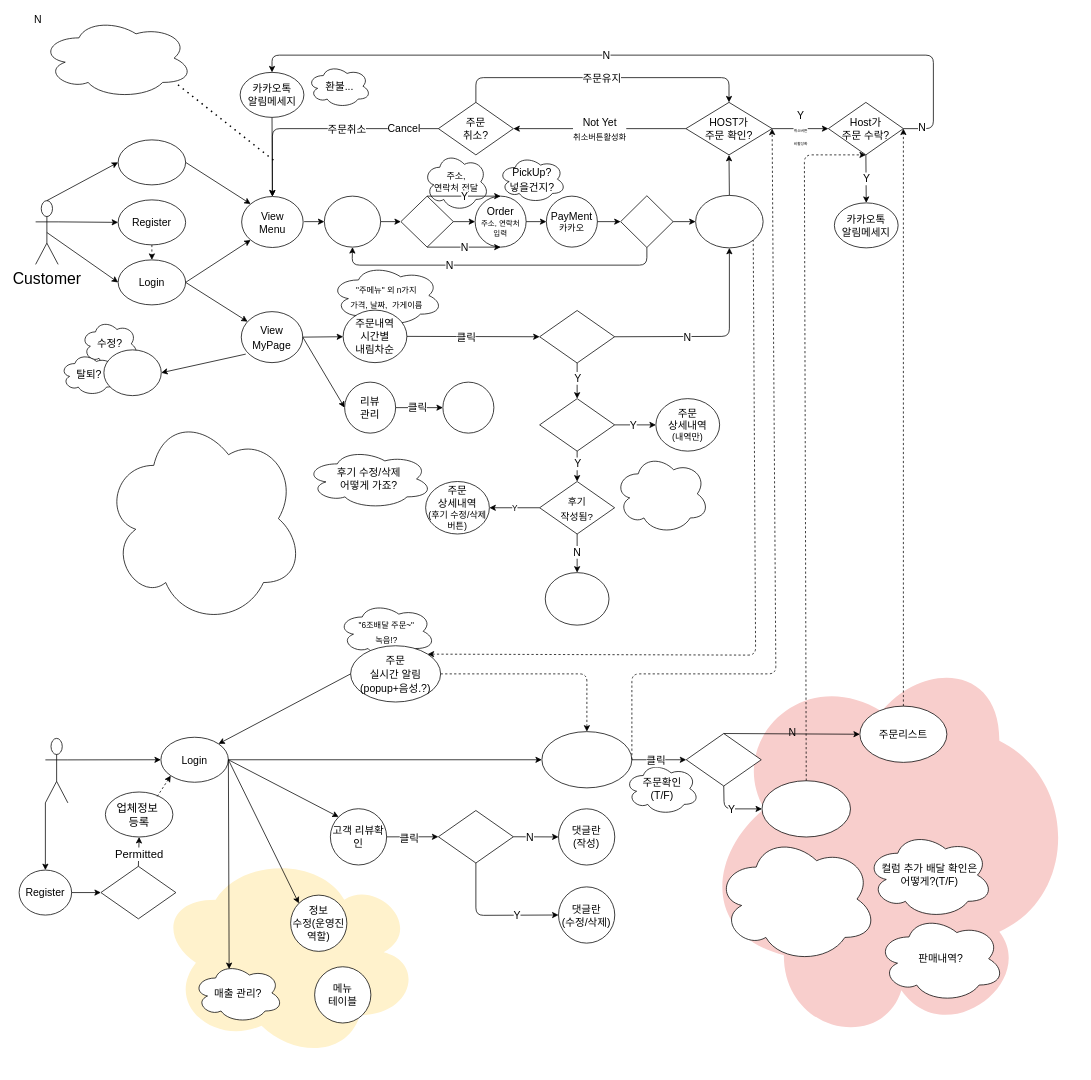
The diagram is 1091 pixels wide and 1080 high, and some of its shapes have lost their labels. Each missing label, with the box of its shape:
add to cart: (324, 195, 381, 247)
Host: (45, 738, 68, 803)
LogIn?: (400, 195, 453, 247)
Without Acoount: (117, 139, 186, 185)
개인정보 수정: (103, 349, 161, 396)
결제 성공?: (620, 195, 673, 248)
댓글 작성?: (438, 810, 513, 863)
상세 내역 (수정/삭제): (442, 381, 494, 433)
운영진 승인?: (100, 866, 176, 919)
주문 내역 : "취소완료"로 삭제안하고 기록?: (40, 17, 193, 99)
주문 내역 삭제 버튼 필요?: (614, 453, 709, 534)
주문 미확인 리스트 확인 (시간별 오름차순): (541, 731, 632, 788)
주문 상세내역 (후기작성버튼): (544, 572, 609, 625)
주문 수락 여부 (T/F)로 기록: (715, 834, 877, 963)
주문 수락?: (686, 733, 761, 786)
주문리스트?: (761, 780, 850, 837)
주문상세내역 (취소 버튼): (695, 195, 763, 248)
주문처리 완료?: (539, 310, 615, 363)
취소된 주문?: (539, 398, 615, 451)
후기 작성란에 별점? 작성완료버튼으로 함께 처리?: (103, 411, 303, 625)
